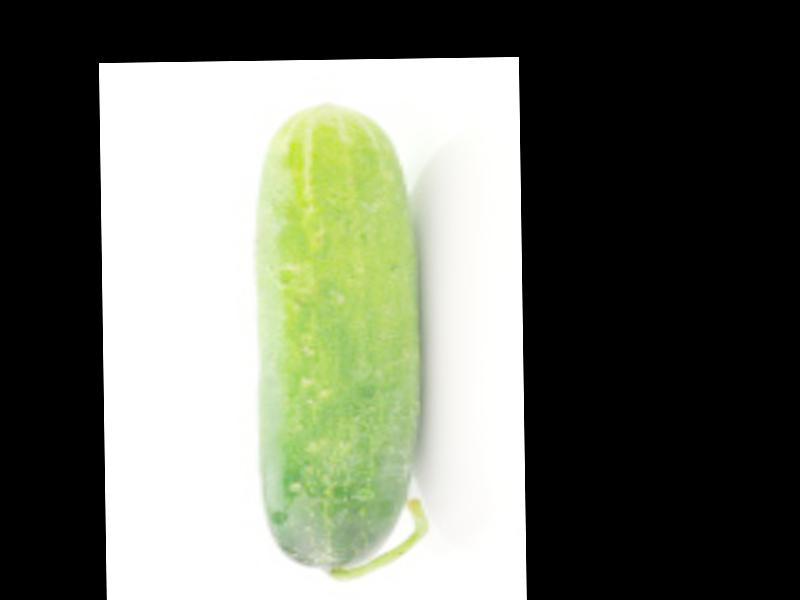Cucumber: (253, 97, 428, 578)
